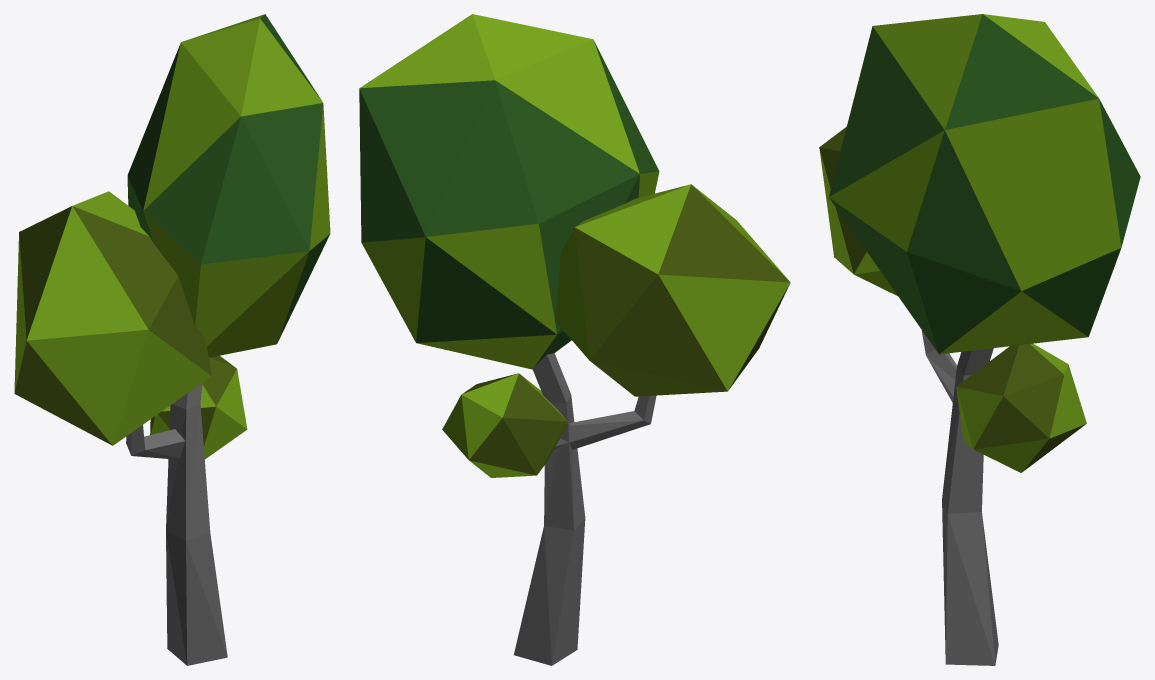
File: Tree1_M1_7_big.fbx
3 renders of one model, left to right at view 1: azimuth 30°, elevation 25°; view 2: azimuth 150°, elevation 25°; view 3: azimuth 270°, elevation 25°, orthographic. The views are drawn at different scales.
Parts seen in each view (by area): view 1: Tree1_M1_7_big; view 2: Tree1_M1_7_big; view 3: Tree1_M1_7_big.
Part boxes in pixels (box(x1,y1,x2,y2)): Tree1_M1_7_big: box(14, 14, 330, 665); Tree1_M1_7_big: box(359, 14, 790, 665); Tree1_M1_7_big: box(819, 14, 1140, 665).
Bounding box in the file's own units: 304 × 518 × 223.
